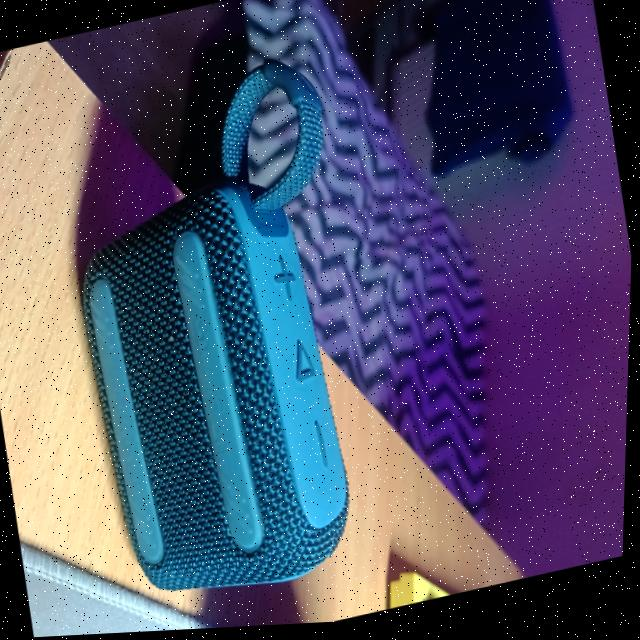column JBL: (34, 47, 405, 618)
